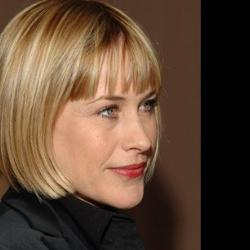face: (3, 3, 168, 211)
